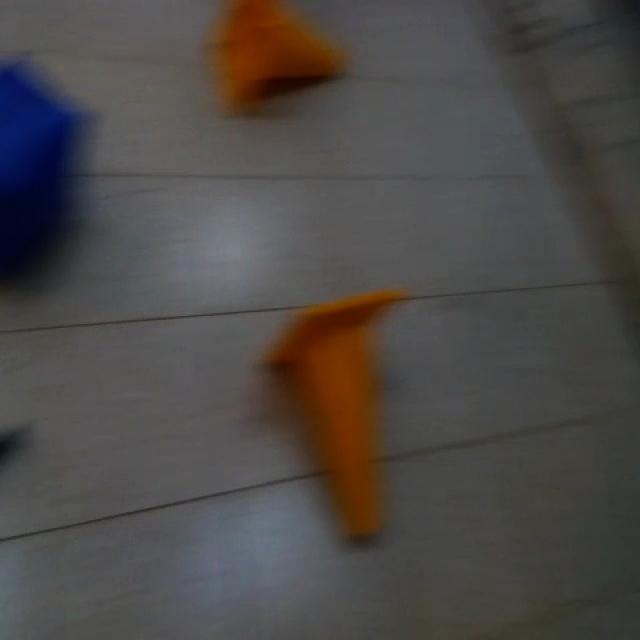cone: (274, 287, 411, 539), (216, 0, 346, 113)
cube: (0, 64, 74, 277)
